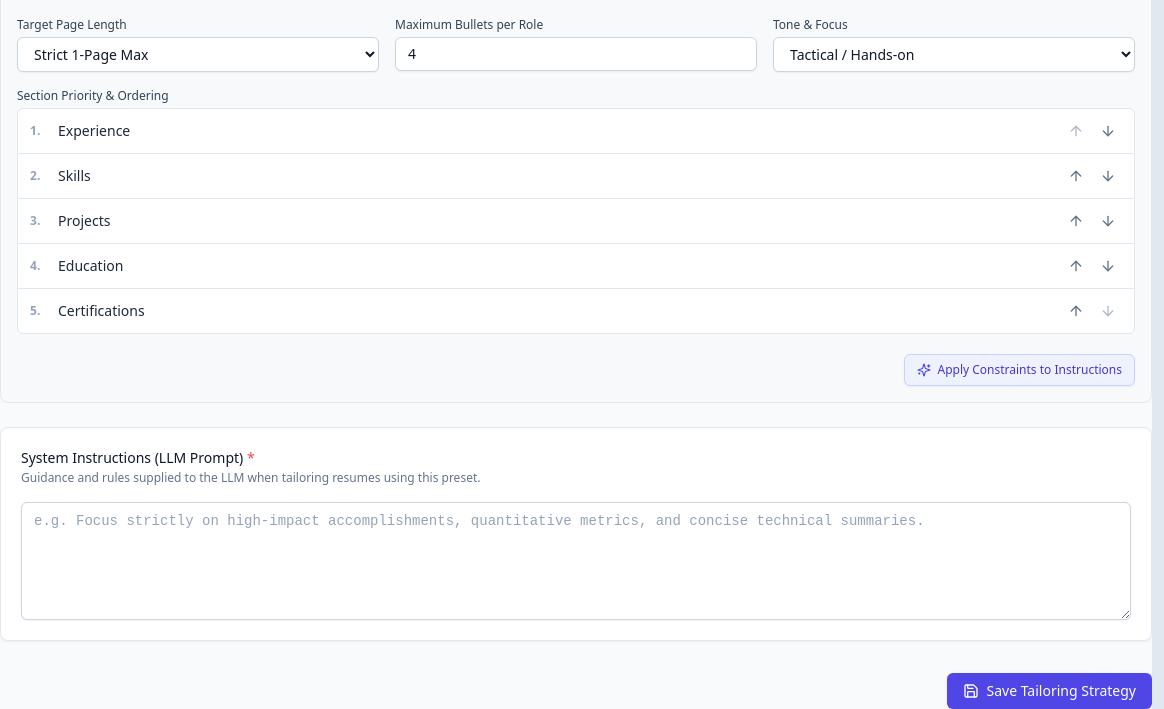
Test: PresetForm Component › validates required fields on submission
The image size is (1164, 709).
(page scrolled)
Click the button "Save Tailoring Strategy".
click(1049, 691)  # box [946, 673, 1152, 708]
(page scrolled)
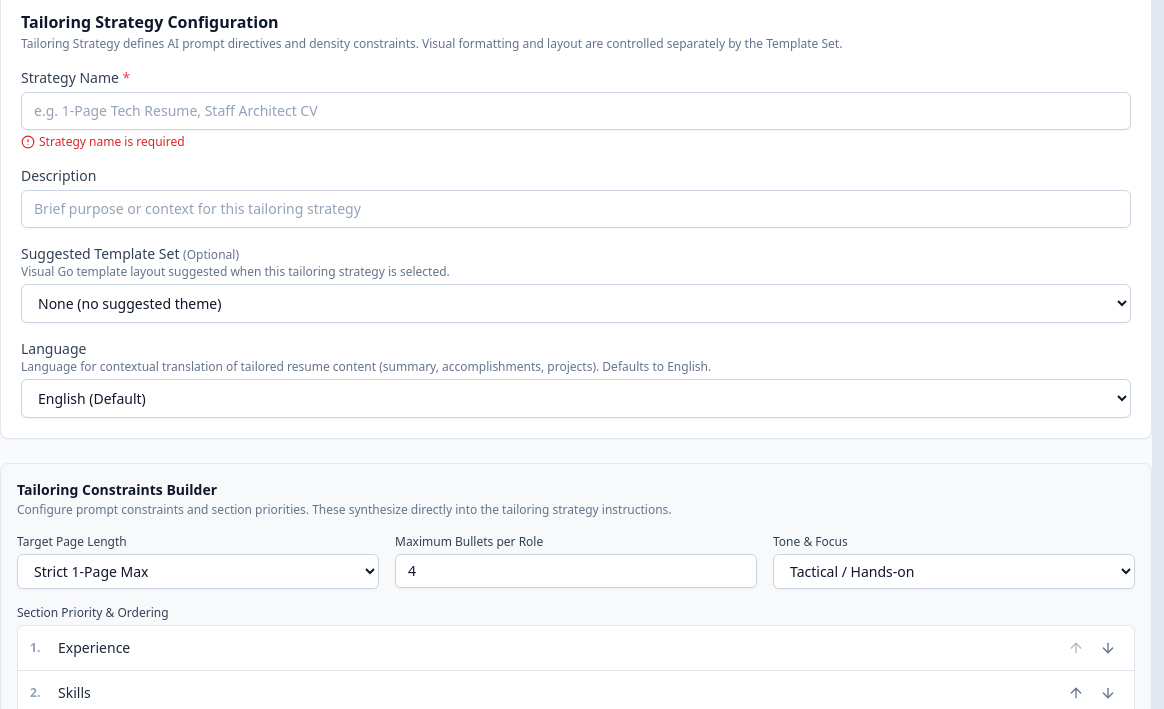
Expected: the text "Strategy name is required" is shown, [39, 134, 185, 150]
